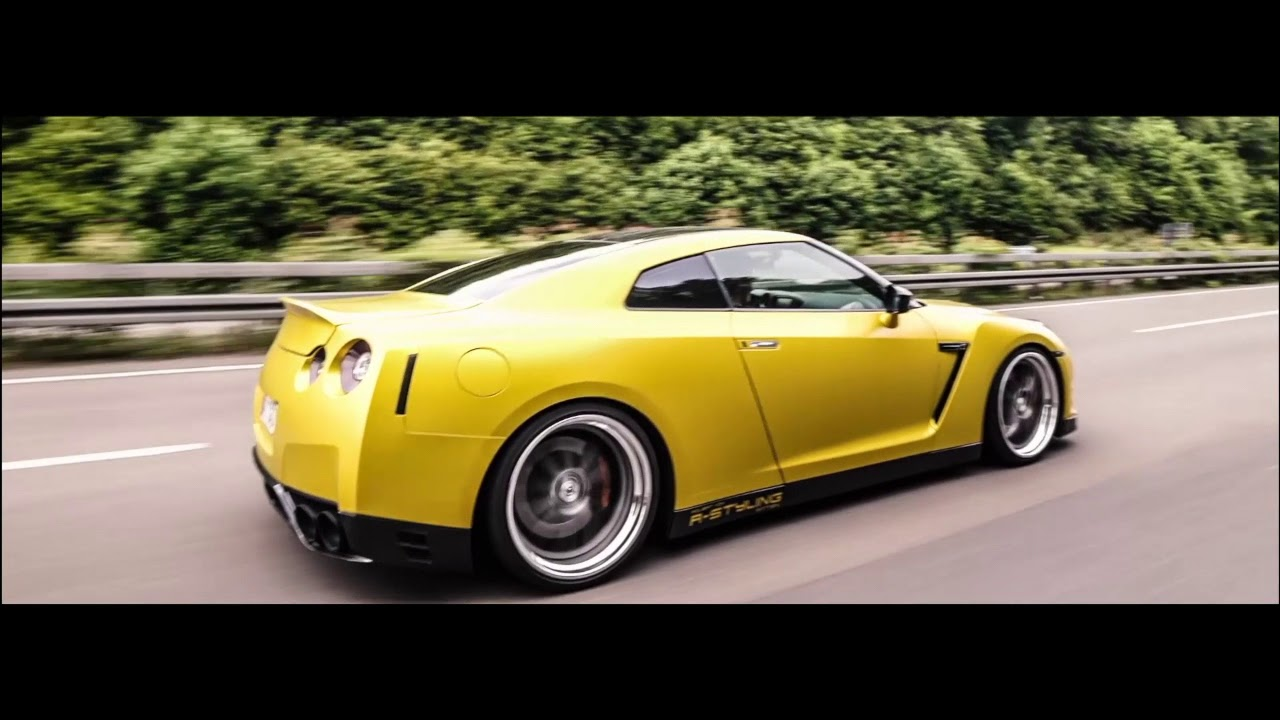Car: (251, 226, 1102, 574)
